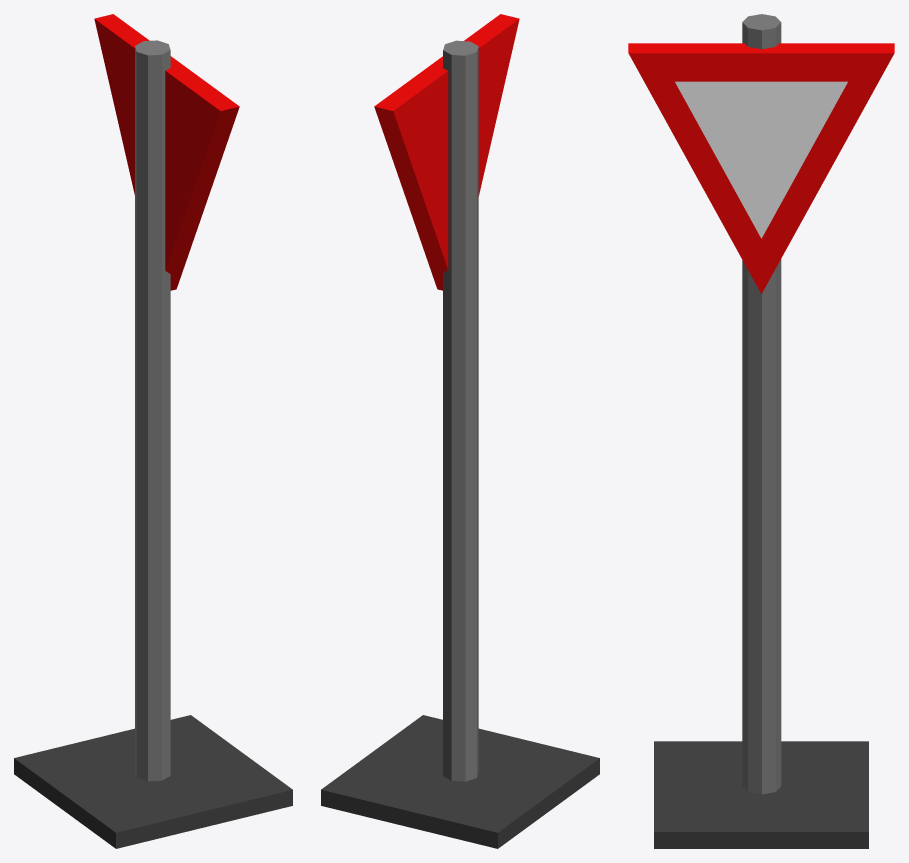
The model's file is traffic_Sign_04.fbx.
The picture shows the model from 3 angles, left to right: view 1: azimuth 30°, elevation 25°; view 2: azimuth 150°, elevation 25°; view 3: azimuth 270°, elevation 25°; orthographic projection. The views are drawn at different scales.
Visible parts, largest first — view 1: traffic_Sign_04; view 2: traffic_Sign_04; view 3: traffic_Sign_04.
Boxes of the visible parts, box(x1,y1,x2,y2) form: traffic_Sign_04: box(14, 14, 292, 848); traffic_Sign_04: box(321, 14, 599, 848); traffic_Sign_04: box(628, 14, 894, 848).
Size of the model in its own units: 60.75 by 244 by 75.21.
